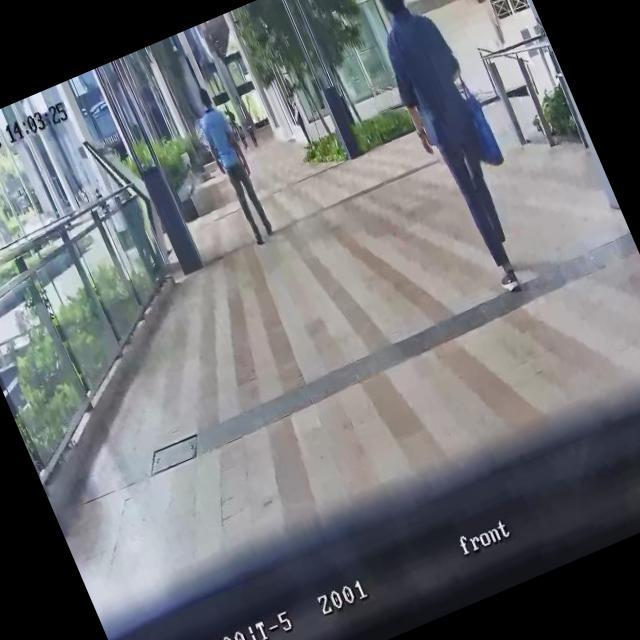person: (350, 0, 551, 304), (186, 82, 280, 249), (286, 96, 314, 148), (233, 120, 250, 150), (244, 120, 260, 148)
